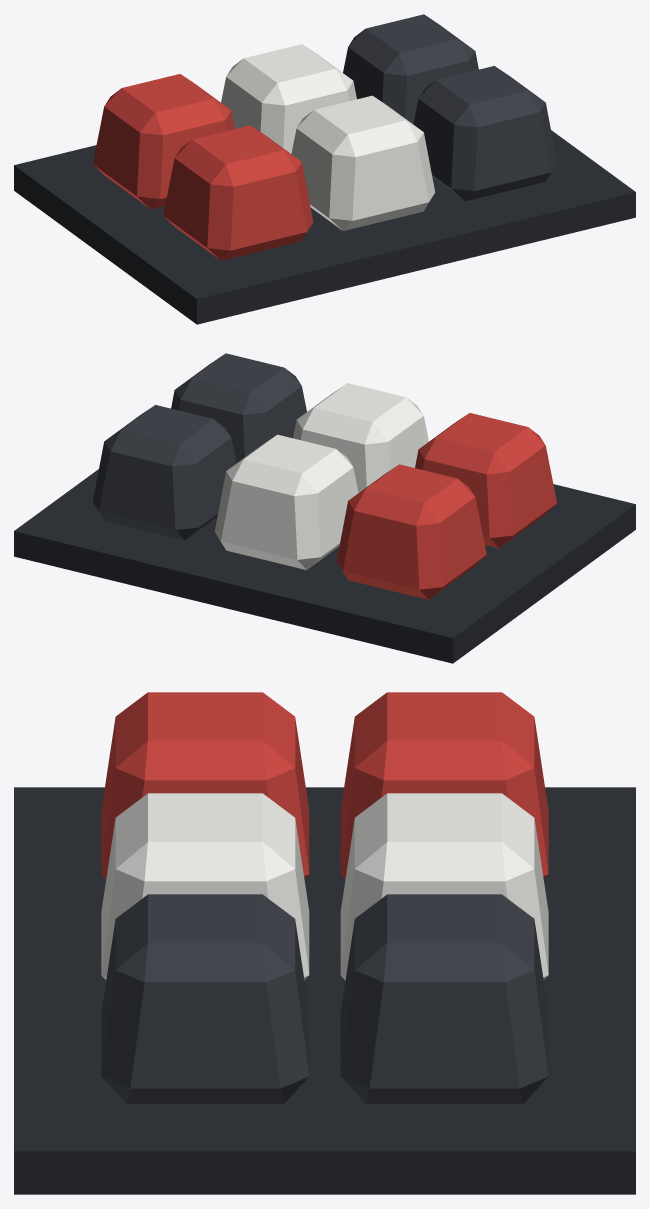
Rendered from prop_keyboardsmash_p0.glb.
The picture shows the model from 3 angles, top to bottom: view 1: azimuth 30°, elevation 25°; view 2: azimuth 150°, elevation 25°; view 3: azimuth 270°, elevation 25°; orthographic projection. The views are drawn at different scales.
Parts seen in each view (by area): view 1: prop_keyboardsmash_p0_mesh; view 2: prop_keyboardsmash_p0_mesh; view 3: prop_keyboardsmash_p0_mesh.
Part boxes in pixels (x1,y1,x2,y2): prop_keyboardsmash_p0_mesh: (14, 14, 635, 324); prop_keyboardsmash_p0_mesh: (14, 353, 635, 663); prop_keyboardsmash_p0_mesh: (14, 692, 635, 1194).
Size of the model in its own units: 0.18 by 0.045 by 0.13.
